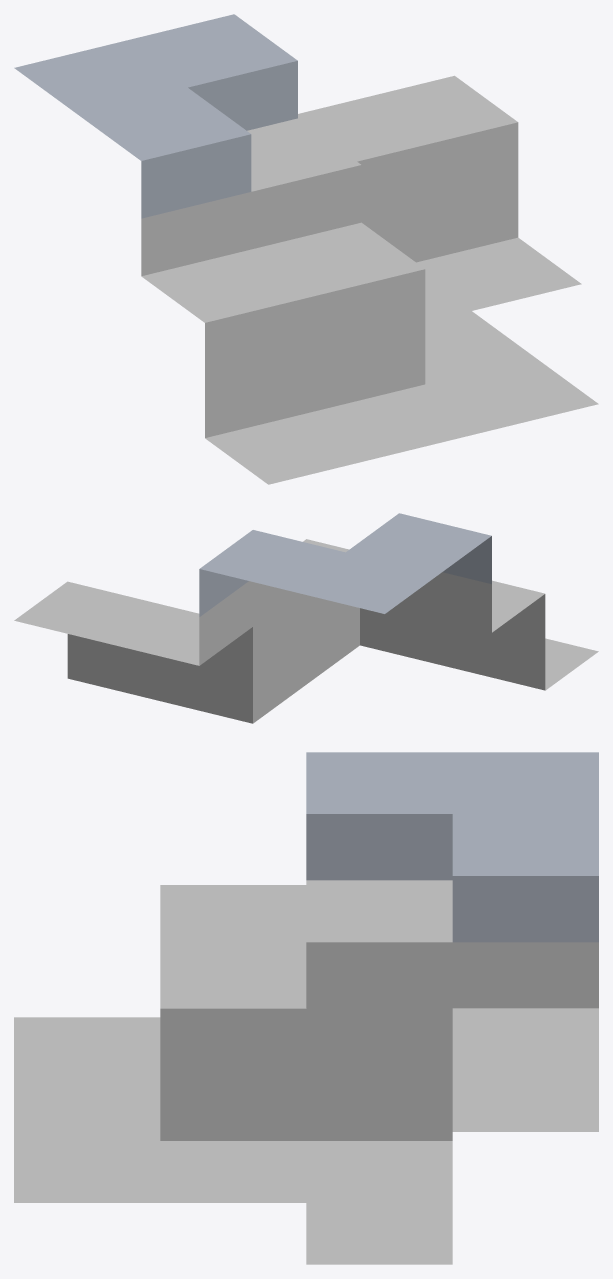
File: cell_211.obj
3 views of the same model, one above another, from view 1: azimuth 30°, elevation 25°; view 2: azimuth 150°, elevation 25°; view 3: azimuth 270°, elevation 25° (orthographic). The views are drawn at different scales.
Bounding box in the file's own units: 1 × 0.5 × 1.
